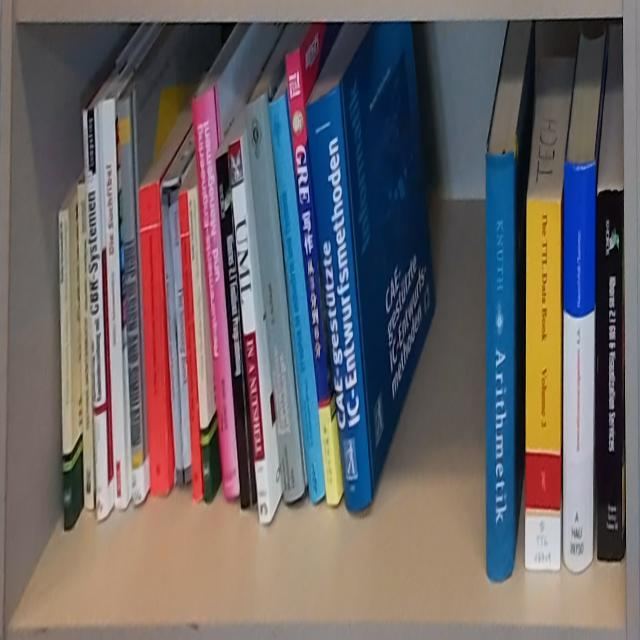Book Spine: (306, 88, 372, 514), (244, 89, 305, 502), (286, 47, 339, 505), (269, 91, 326, 504), (193, 86, 240, 501), (229, 137, 270, 524), (216, 153, 257, 512), (525, 197, 561, 572), (563, 157, 595, 573), (486, 152, 515, 583), (100, 98, 128, 510), (118, 94, 145, 506), (83, 107, 109, 521), (140, 182, 171, 497), (598, 188, 624, 562), (162, 184, 193, 487), (187, 183, 213, 505), (179, 190, 204, 503), (78, 183, 94, 512), (60, 207, 74, 533)
